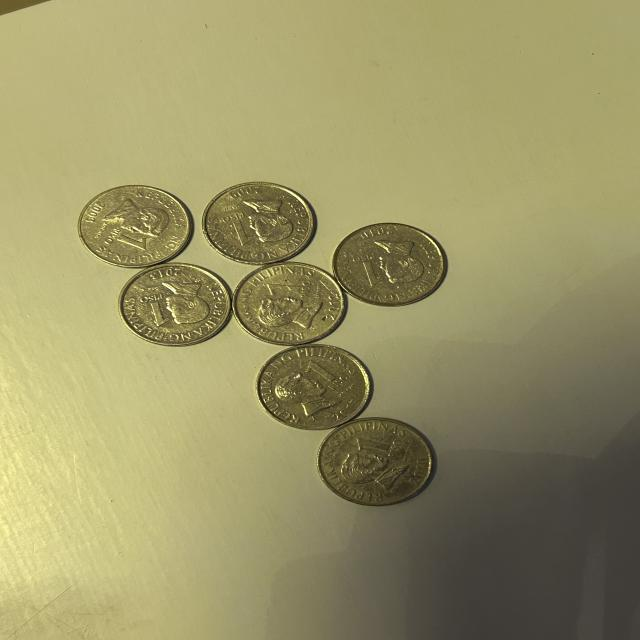1_Old_Front: (136, 290, 184, 330), (299, 359, 354, 391), (346, 248, 383, 292), (102, 228, 150, 259), (354, 432, 404, 461), (220, 209, 253, 250), (266, 278, 312, 302)
